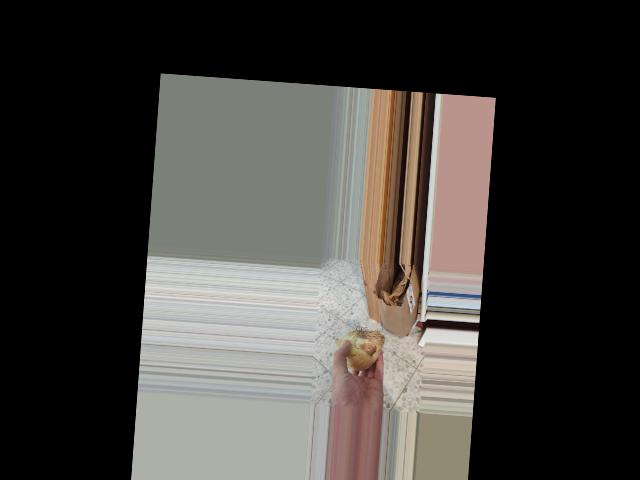onion: (333, 322, 387, 375)
